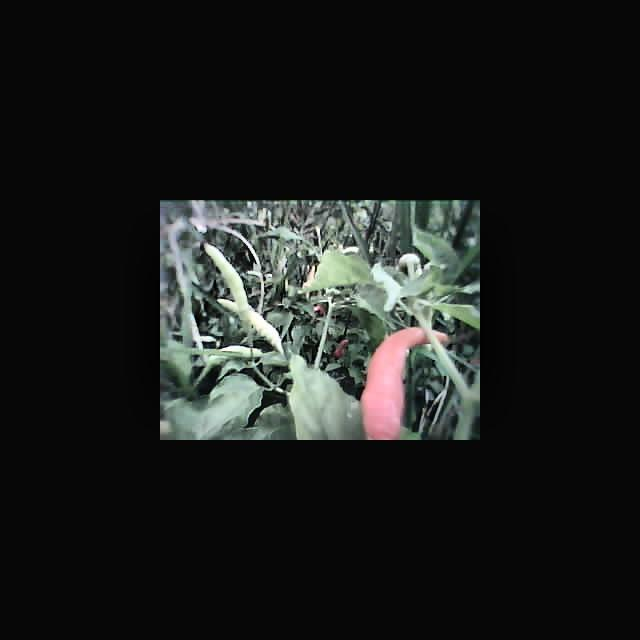Cabai: (359, 334, 424, 439)
